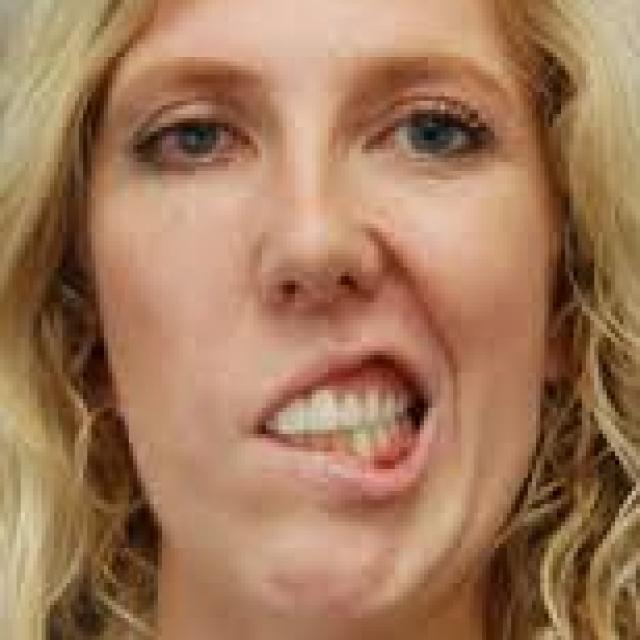stroke_face: (93, 9, 560, 614)
